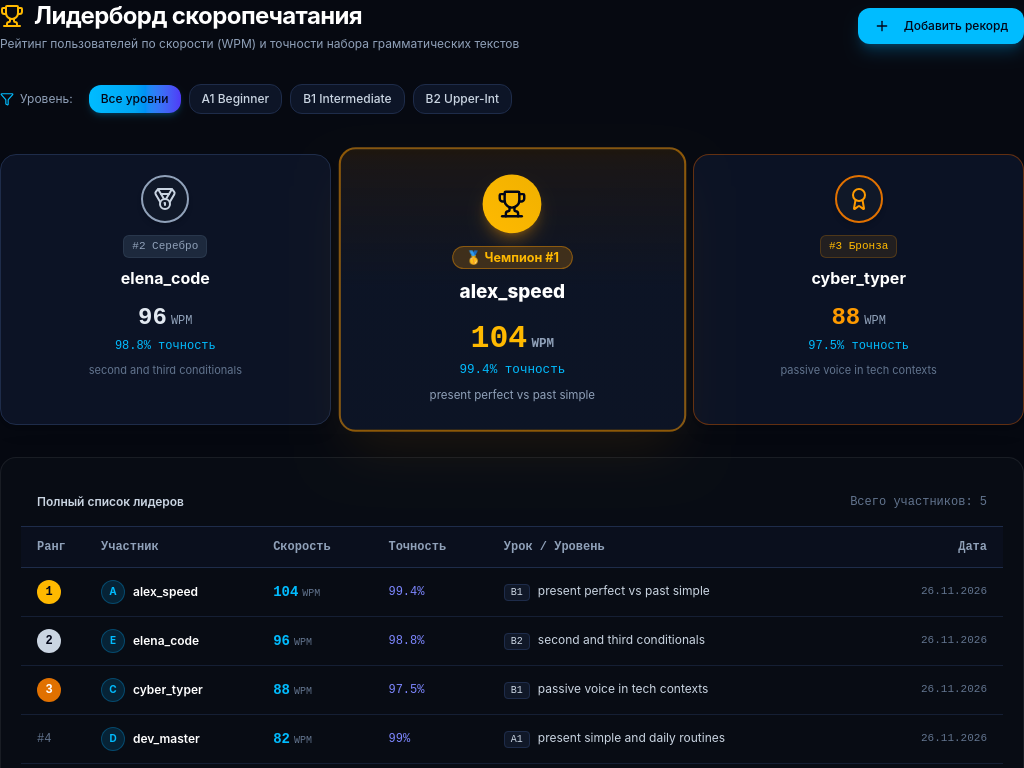
Test: Criterion 8: Component Rendering and User Interactions › LeaderboardView: renders leaderboard table, podium and opens submit record modal
Expected: the heading "Лидерборд скоропечатания" is shown, [34,0,362,32]
Click "Добавить рекорд" button
What coordinates should you click on to do the following:
click the button with test id "add-score-btn"
I would click on:
 (941, 26)
Its box is [858,8,1023,44].
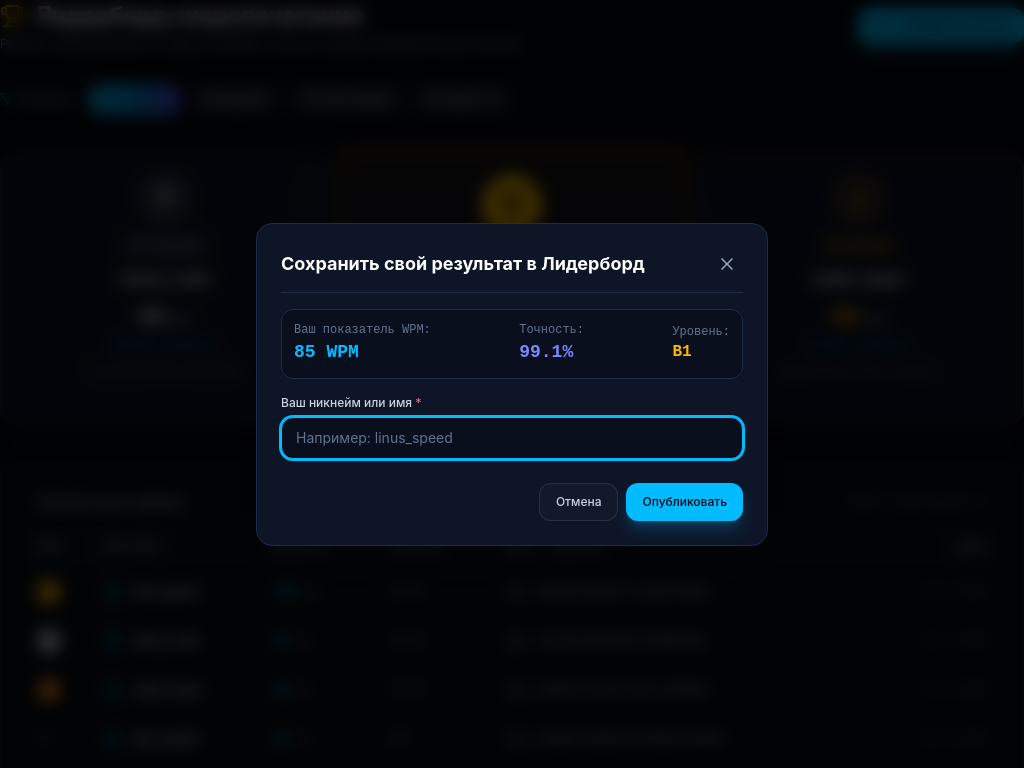
Now the heading "Сохранить свой результат в Лидерборд" is shown, box [281,250,645,278]
Now the field labelled "Ваш никнейм или имя *" is shown, box [281,416,743,458]
